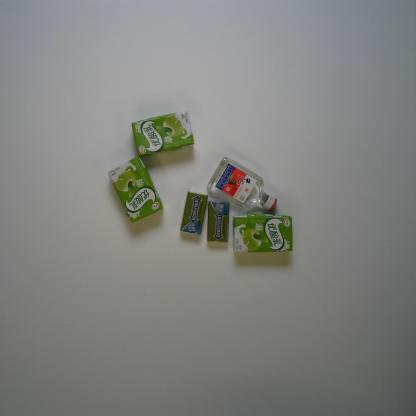Alcohol: (206, 156, 278, 212)
Gum: (180, 191, 209, 235), (206, 200, 230, 243)
Milk: (107, 156, 164, 224), (131, 110, 195, 158), (232, 212, 293, 253)
